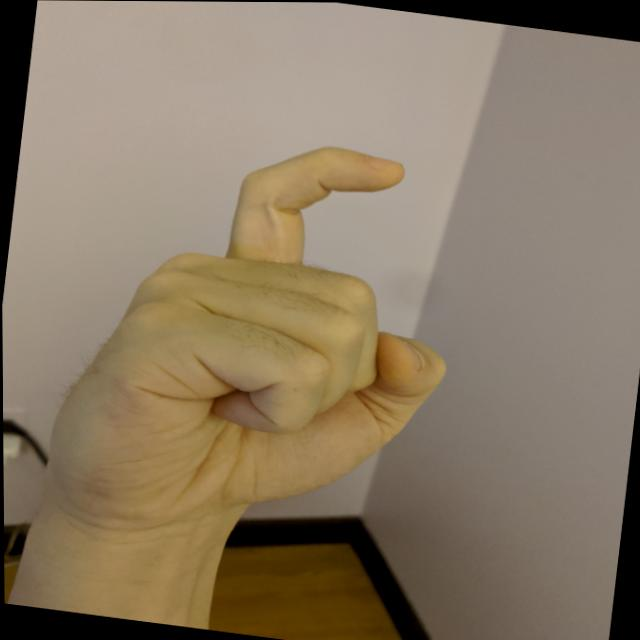X: (16, 108, 479, 561)
